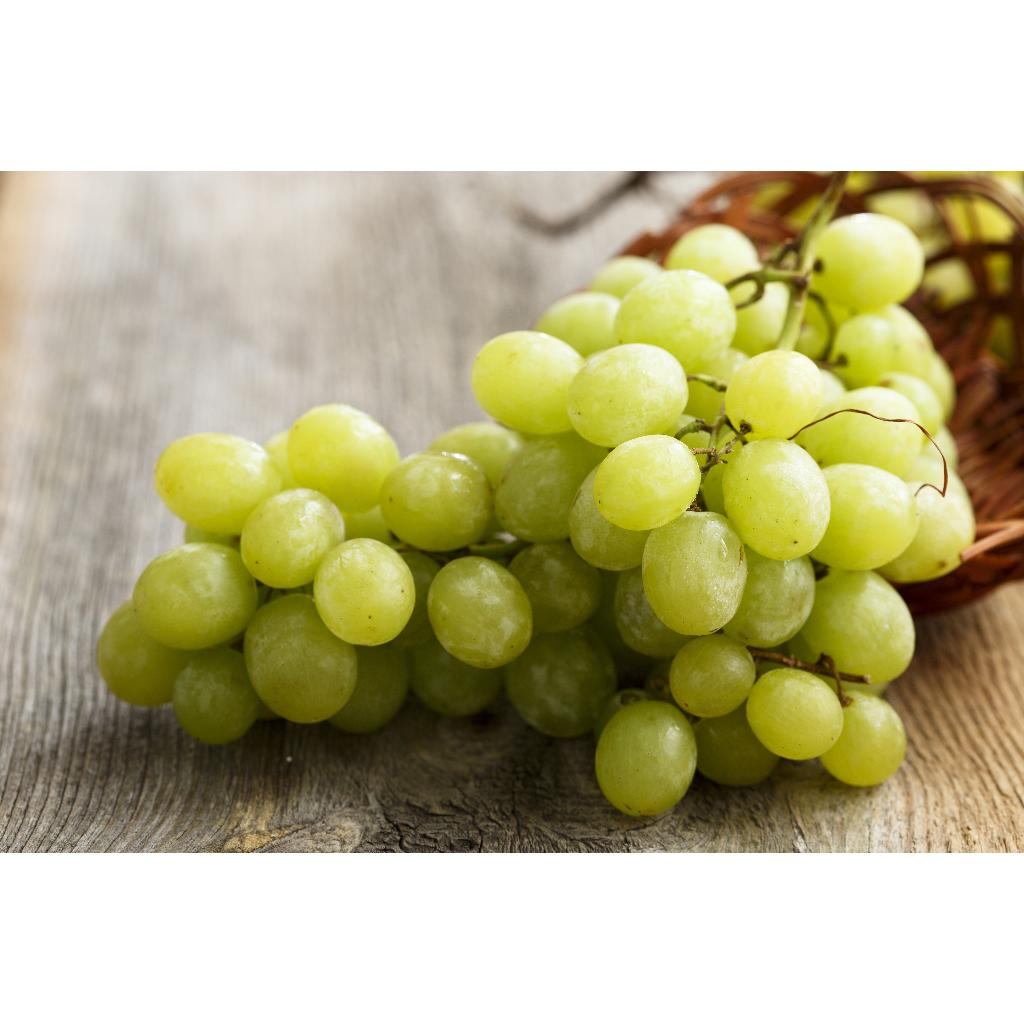grape: (97, 171, 974, 816)
